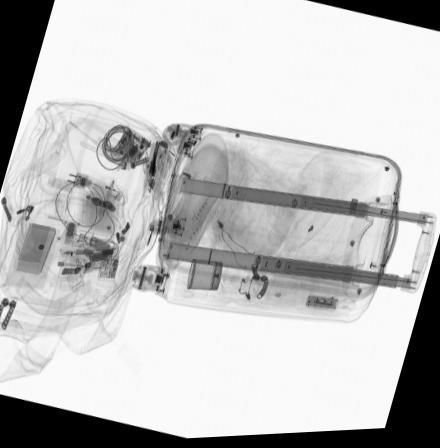Lighter: (100, 184, 124, 203)
